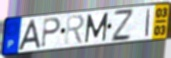A: (17, 18, 42, 52)
I: (145, 8, 152, 37)
M: (84, 11, 109, 44)
P: (39, 17, 62, 49)
R: (64, 14, 86, 46)
Z: (111, 9, 134, 43)
